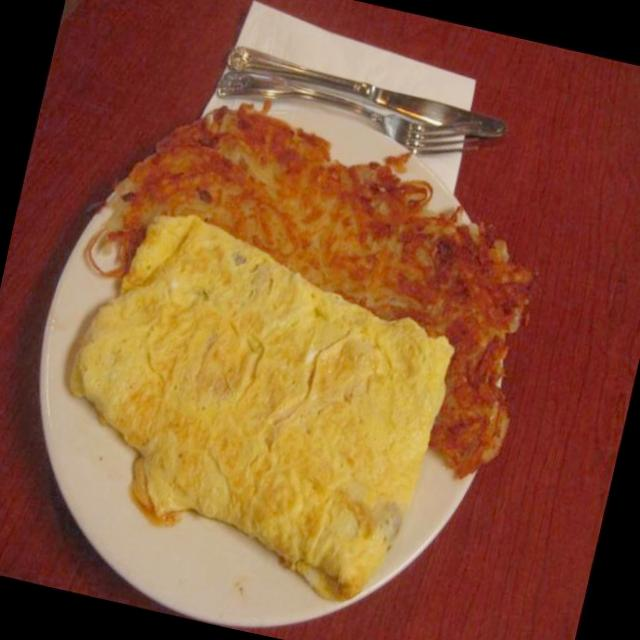Omelet: (3, 170, 504, 622)
